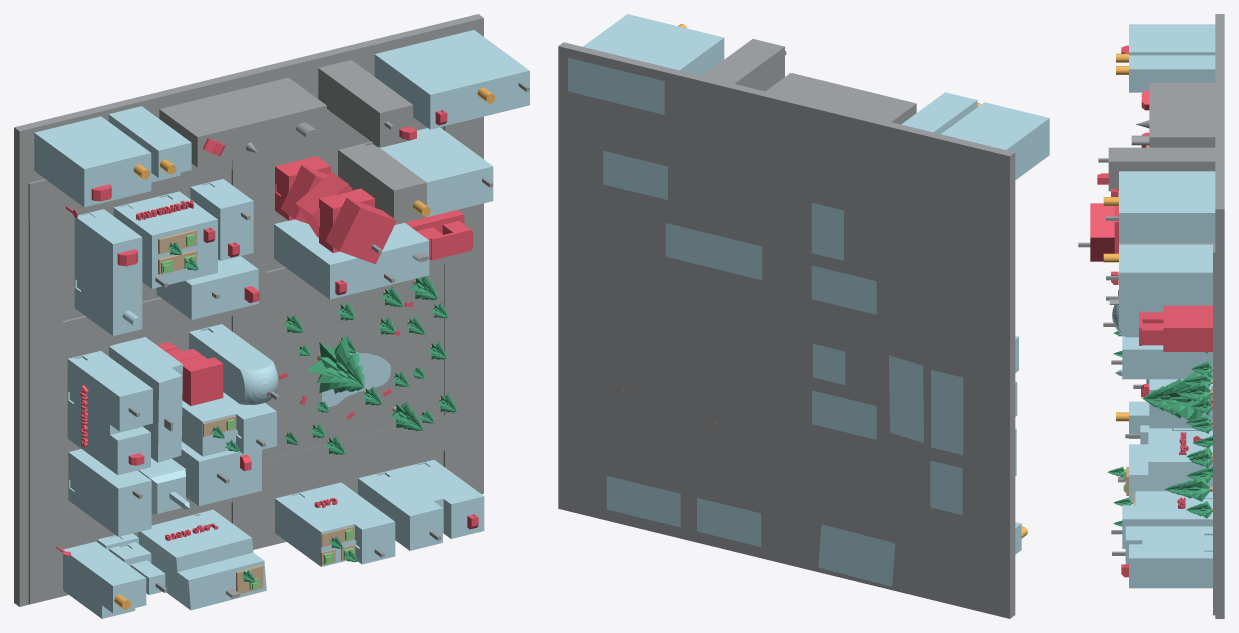
Rendered from CoenCity.gltf.
3 renders of one model, left to right at view 1: azimuth 30°, elevation 25°; view 2: azimuth 150°, elevation 25°; view 3: azimuth 270°, elevation 25°, orthographic. The views are drawn at different scales.
Parts seen in each view (by area): view 1: group_0_8768998, group_0_6383466, group_0_15277357, group_0_1206582, group_0_11107152, group_0_16089887, group_0_4634441; view 2: group_0_6383466, group_0_8768998; view 3: group_0_8768998, group_0_6383466, group_0_15277357, group_0_1206582, group_0_16089887, group_0_11107152.
Part boxes in pixels (bbox=[...]): group_0_8768998: bbox=[34, 30, 529, 618]; group_0_6383466: bbox=[14, 14, 529, 606]; group_0_15277357: bbox=[56, 110, 478, 556]; group_0_1206582: bbox=[167, 241, 456, 582]; group_0_11107152: bbox=[158, 229, 440, 594]; group_0_16089887: bbox=[114, 87, 495, 609]; group_0_4634441: bbox=[161, 234, 354, 590]; group_0_6383466: bbox=[558, 39, 1015, 618]; group_0_8768998: bbox=[568, 14, 1049, 586]; group_0_8768998: bbox=[1112, 24, 1215, 588]; group_0_6383466: bbox=[1078, 14, 1224, 618]; group_0_15277357: bbox=[1090, 45, 1212, 577]; group_0_1206582: bbox=[1107, 331, 1212, 526]; group_0_16089887: bbox=[1103, 53, 1128, 421]; group_0_11107152: bbox=[1126, 145, 1212, 511].
Size of the model in its own units: 140 by 137 by 44.4.
